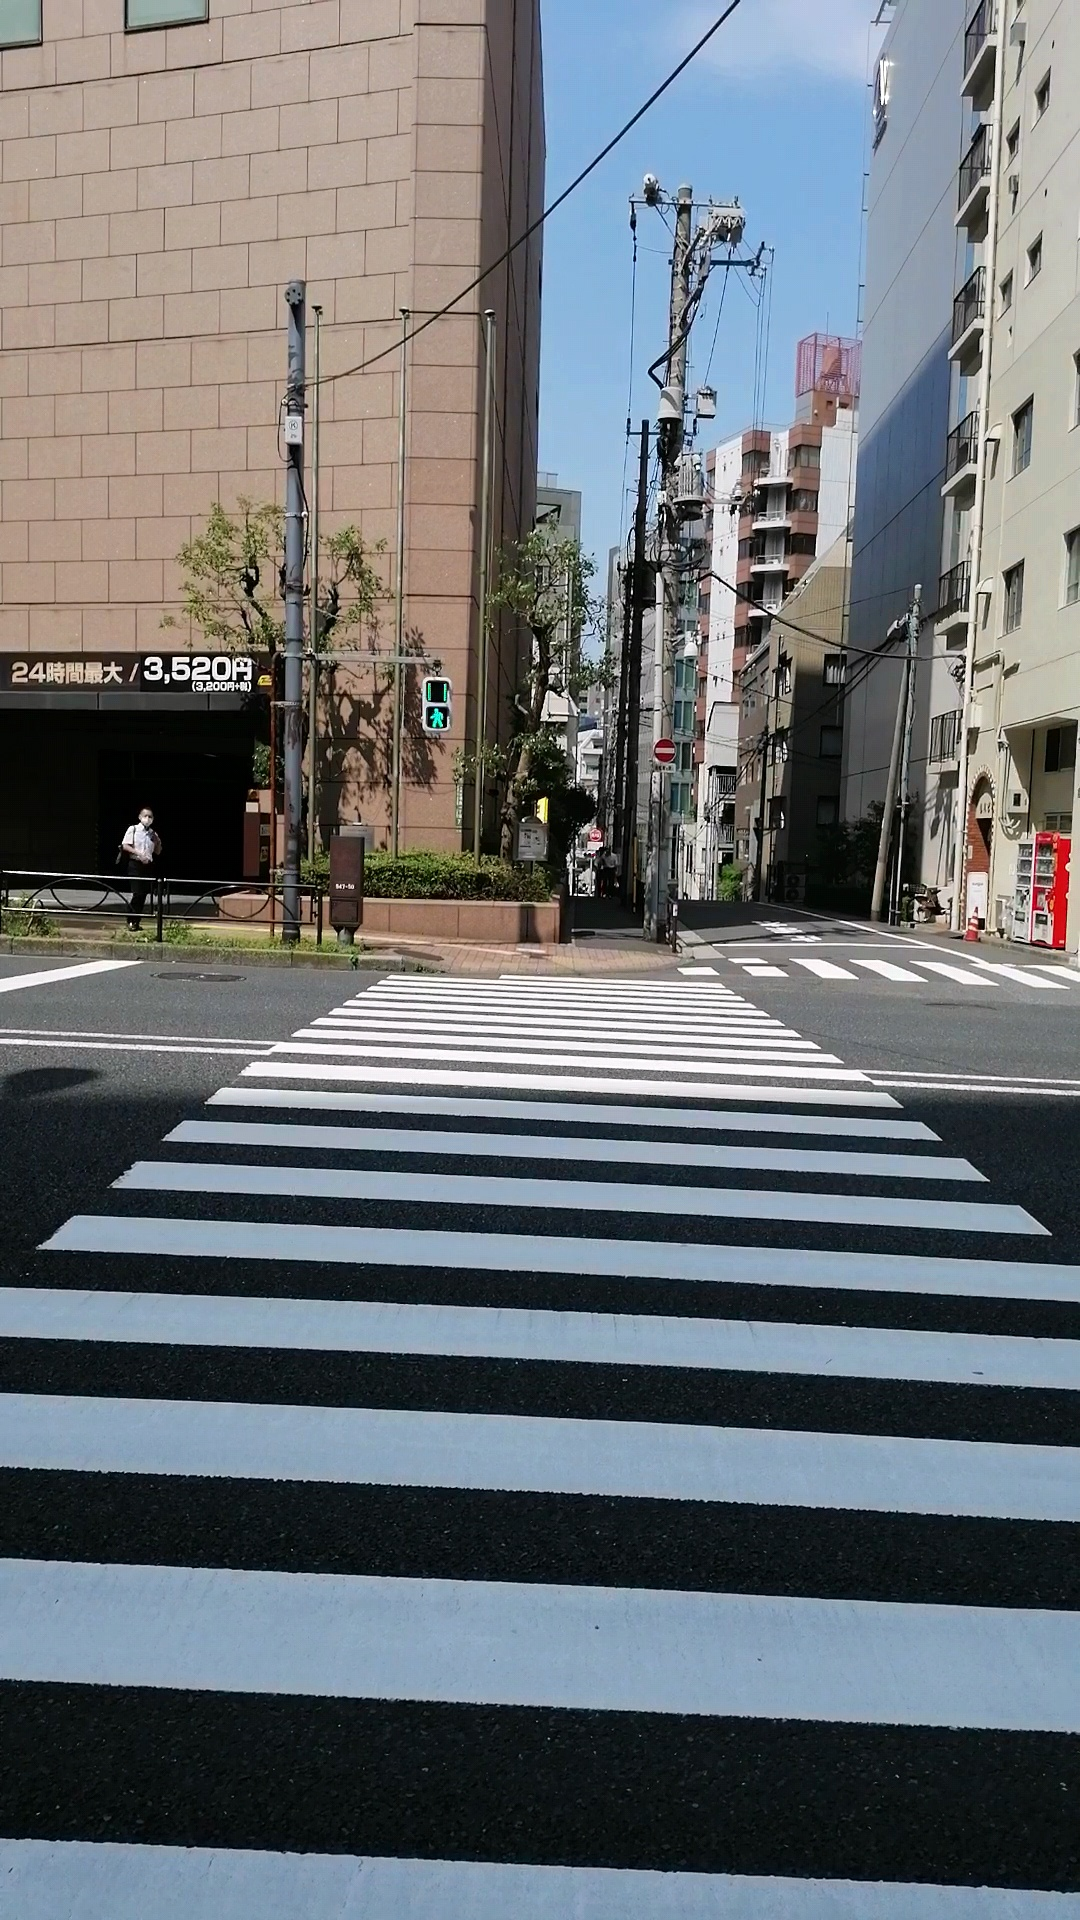green: (419, 676, 452, 735)
